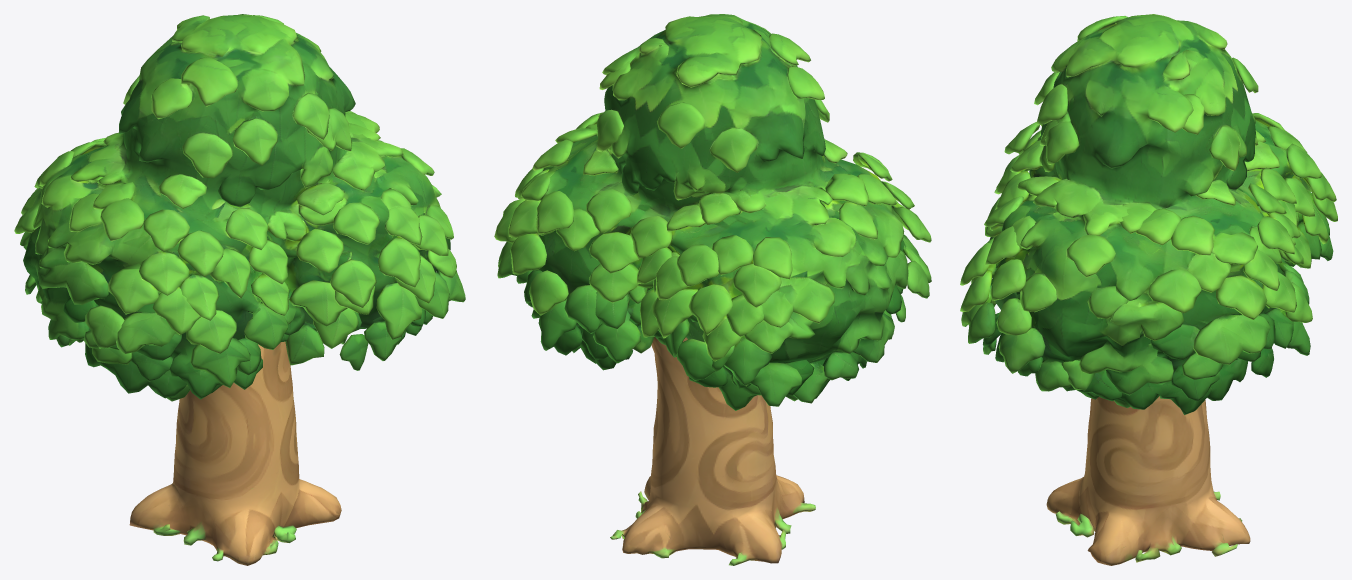
File: tree_1.glb
3 views of the same model, side by side, from view 1: azimuth 30°, elevation 25°; view 2: azimuth 150°, elevation 25°; view 3: azimuth 270°, elevation 25° (orthographic).
Bounding box in the file's own units: 1.5 × 1.91 × 1.3.
Materials: 1 (1 with a texture image).
